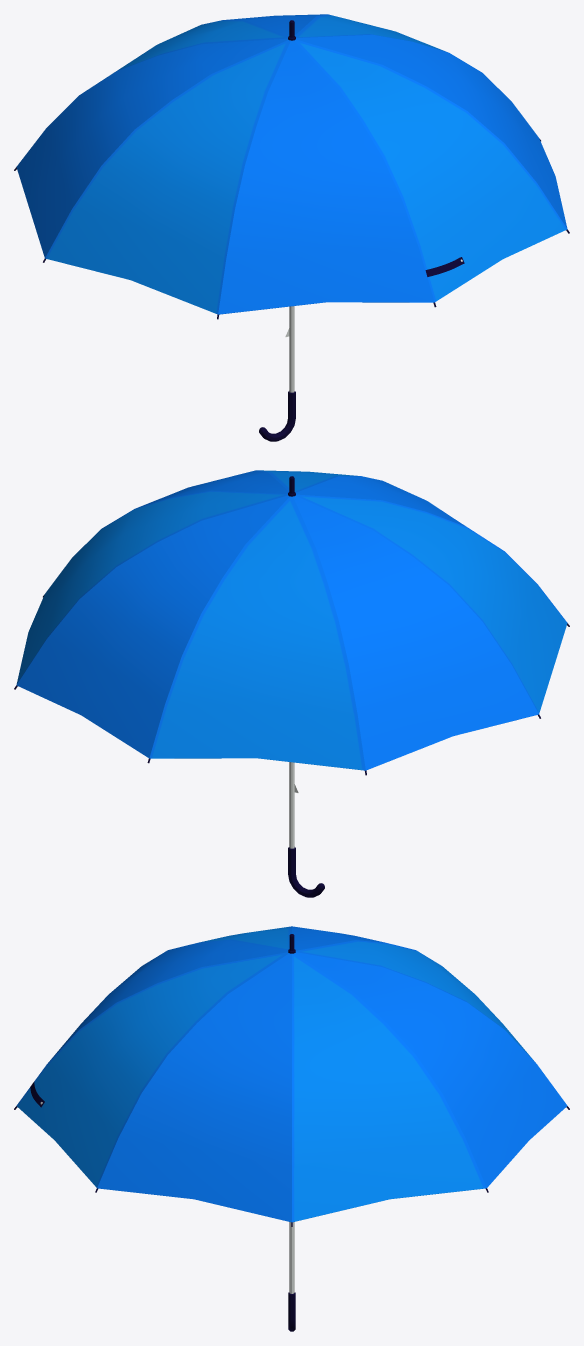
File: accessory_template.glb
3 views of the same model, one above another, from view 1: azimuth 30°, elevation 25°; view 2: azimuth 150°, elevation 25°; view 3: azimuth 270°, elevation 25° (orthographic). The views are drawn at different scales.
Parts seen in each view (by area): view 1: Umbrella_Open; view 2: Umbrella_Open; view 3: Umbrella_Open.
Boxes of the visible parts, bbox=[...] form: Umbrella_Open: bbox=[14, 14, 569, 441]; Umbrella_Open: bbox=[14, 470, 569, 897]; Umbrella_Open: bbox=[14, 926, 569, 1331].
Bounding box in the file's own units: 0.9891 × 0.7893 × 0.9891.
Materials: 1 (1 with a texture image).
